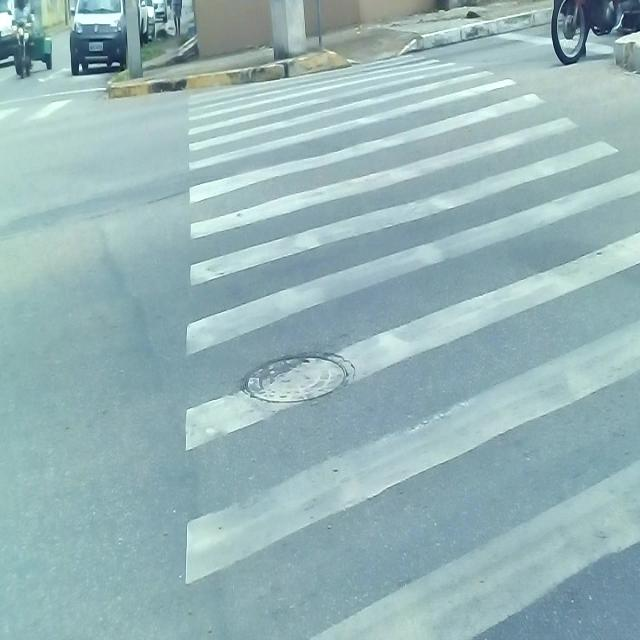crosswalk: (181, 50, 640, 640), (0, 89, 106, 127)
